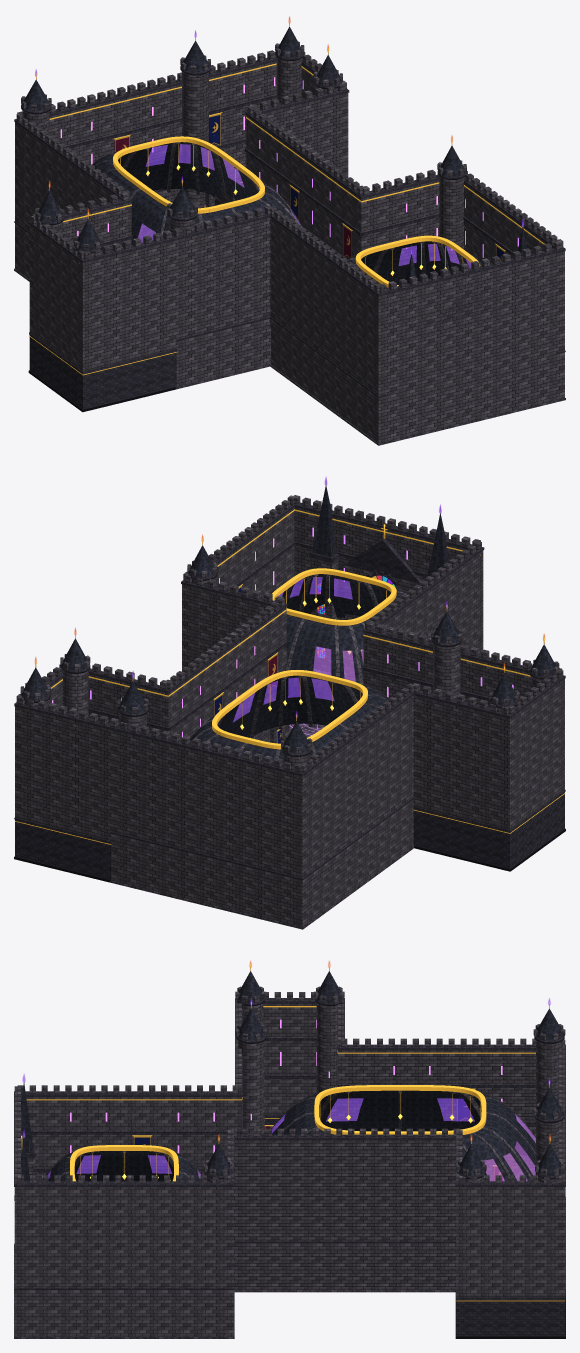
The model's file is arena.glb.
3 renders of one model, top to bottom at view 1: azimuth 30°, elevation 25°; view 2: azimuth 150°, elevation 25°; view 3: azimuth 270°, elevation 25°, orthographic. The views are drawn at different scales.
Parts seen in each view (by area): view 1: arena_castle_block, arena_castle_block_dark, arena_slate_roof, arena_gold, arena_dome_glass, arena_flagstone, arena_banner_blue; view 2: arena_castle_block, arena_castle_block_dark, arena_slate_roof, arena_gold, arena_dome_glass, arena_flagstone, arena_dark_marble; view 3: arena_castle_block, arena_slate_roof, arena_castle_block_dark, arena_gold, arena_dome_glass, arena_flagstone, arena_banner_blue.
Part boxes in pixels (x1=…): arena_castle_block: x1=15, y1=41, x2=564, y2=443; arena_castle_block_dark: x1=14, y1=51, x2=565, y2=409; arena_slate_roof: x1=24, y1=26, x2=527, y2=288; arena_gold: x1=29, y1=20, x2=544, y2=375; arena_dome_glass: x1=138, y1=144, x2=471, y2=268; arena_flagstone: x1=14, y1=242, x2=565, y2=445; arena_banner_blue: x1=209, y1=113, x2=504, y2=260; arena_castle_block: x1=15, y1=495, x2=564, y2=927; arena_castle_block_dark: x1=14, y1=502, x2=565, y2=924; arena_slate_roof: x1=22, y1=485, x2=555, y2=765; arena_gold: x1=15, y1=509, x2=564, y2=844; arena_dome_glass: x1=233, y1=577, x2=363, y2=722; arena_flagstone: x1=110, y1=669, x2=413, y2=929; arena_dark_marble: x1=14, y1=828, x2=565, y2=882; arena_castle_block: x1=14, y1=986, x2=565, y2=1336; arena_slate_roof: x1=20, y1=971, x2=562, y2=1181; arena_castle_block_dark: x1=14, y1=998, x2=565, y2=1336; arena_gold: x1=21, y1=964, x2=564, y2=1301; arena_dome_glass: x1=48, y1=1098, x2=535, y2=1181; arena_flagstone: x1=14, y1=1197, x2=565, y2=1338; arena_banner_blue: x1=133, y1=1098, x2=474, y2=1167.
Size of what is drawn, in the model's own units: 64 by 33.4 by 80.
28 materials, 16 textured.
